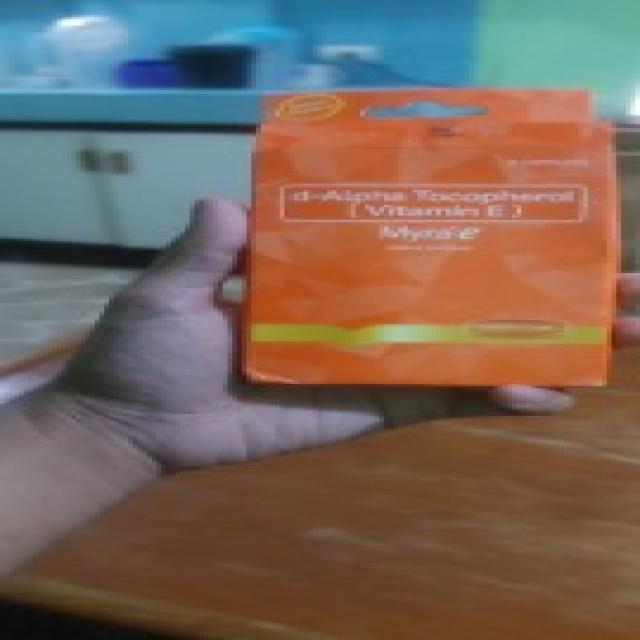Cacat: (251, 94, 609, 388)
